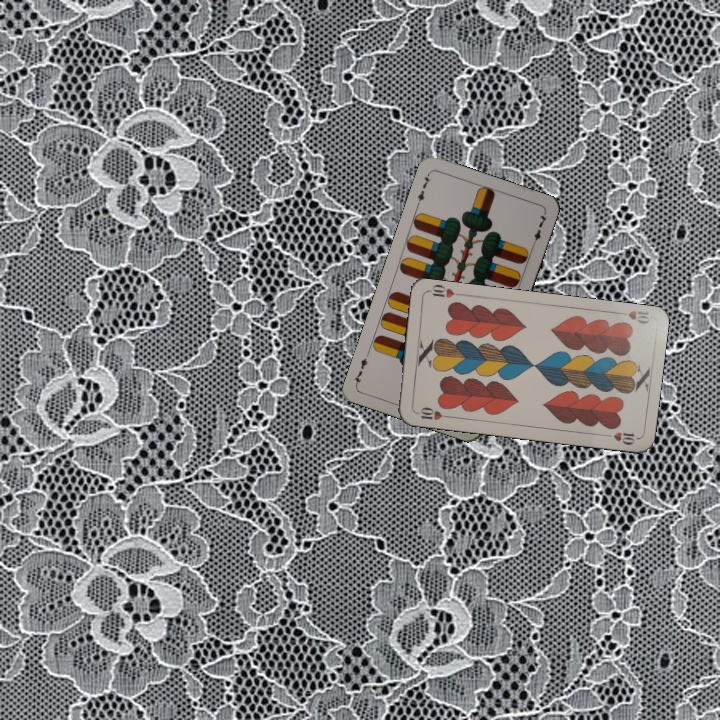E7: (413, 169, 433, 209)
H10: (613, 306, 653, 327), (411, 403, 451, 422)
